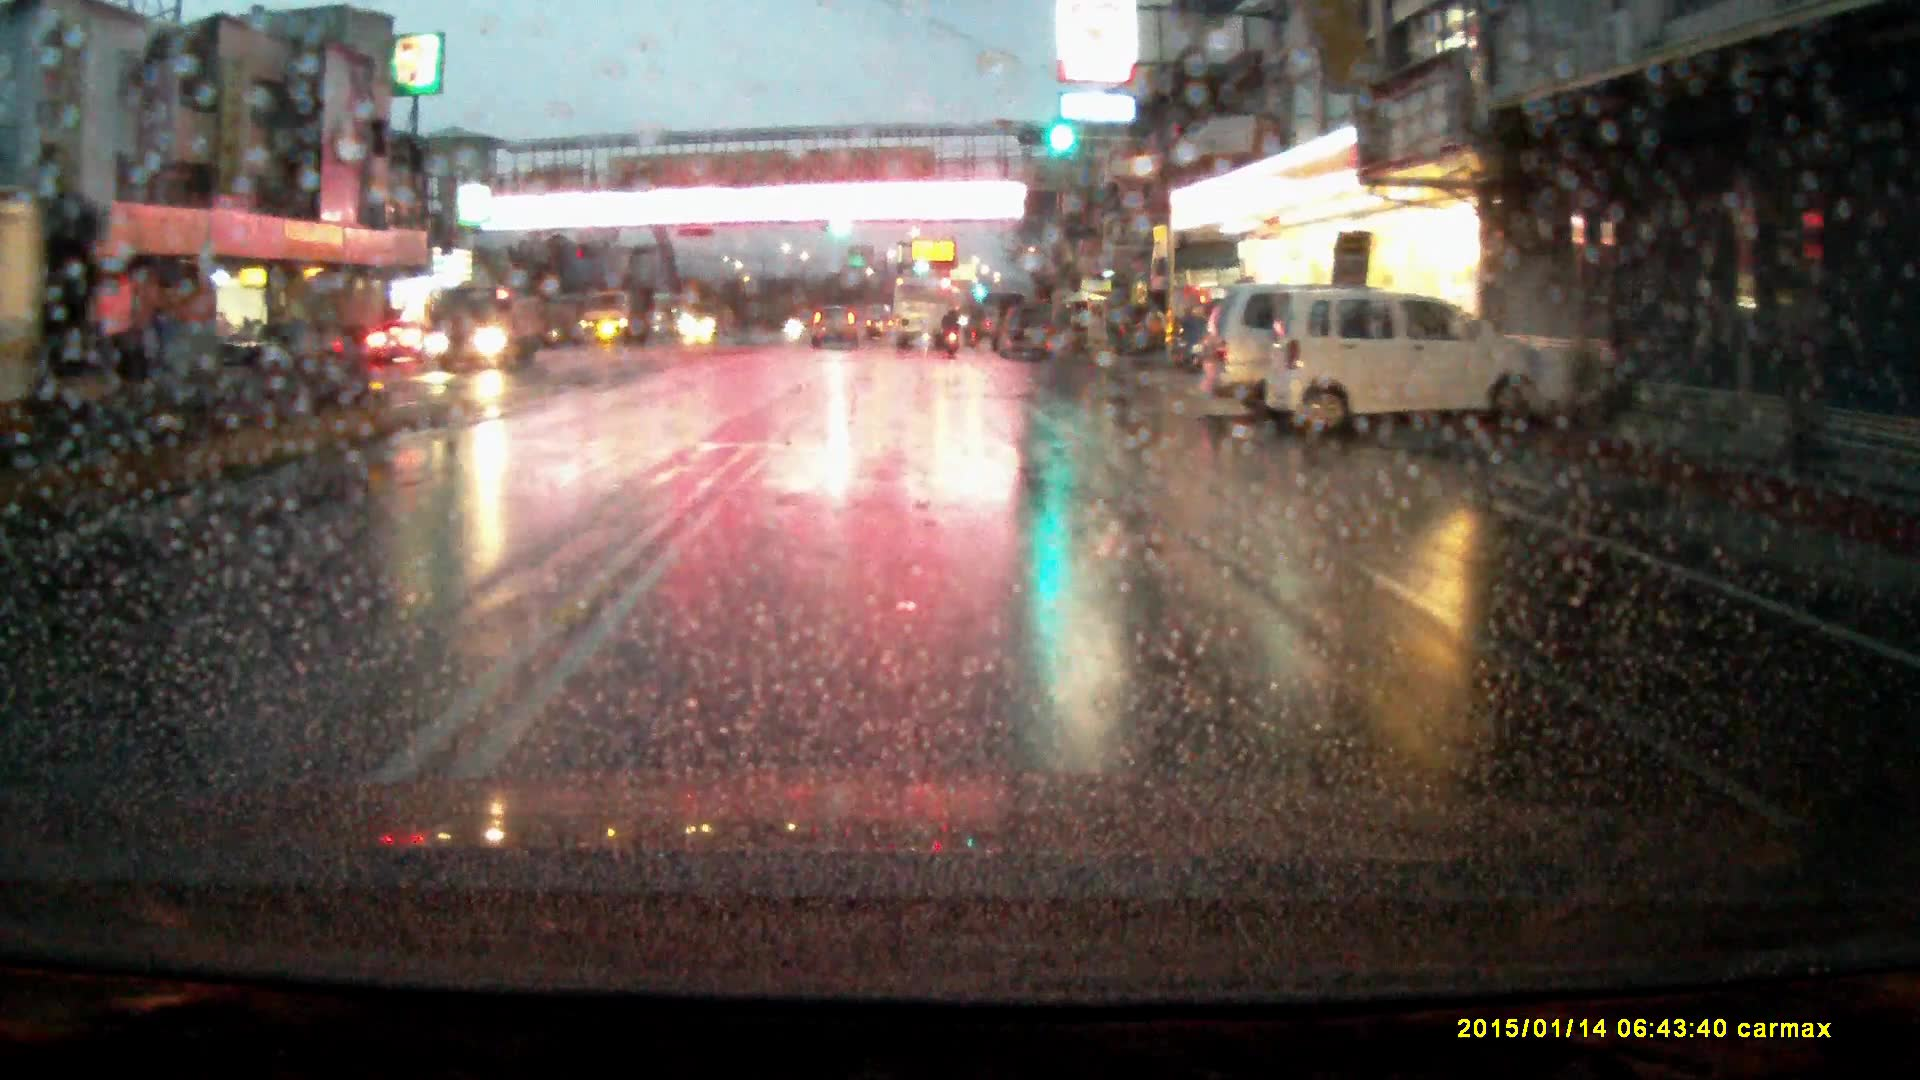rider: (942, 309, 963, 361)
vehicle: (1265, 293, 1573, 440), (1201, 287, 1378, 431), (426, 296, 535, 379), (233, 322, 348, 377), (895, 279, 952, 352), (577, 293, 649, 346), (996, 306, 1055, 364), (1111, 305, 1168, 361), (366, 326, 436, 370), (679, 298, 742, 344), (812, 303, 863, 353)
